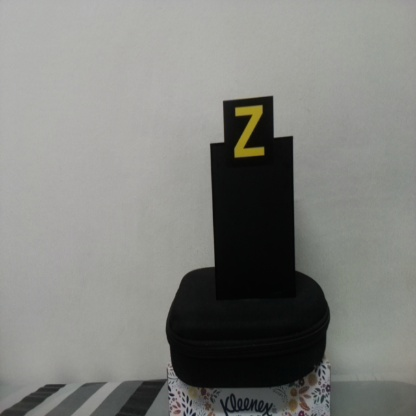id_15: (224, 99, 274, 167)
